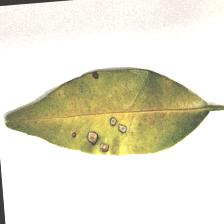canker: (66, 68, 136, 158)
